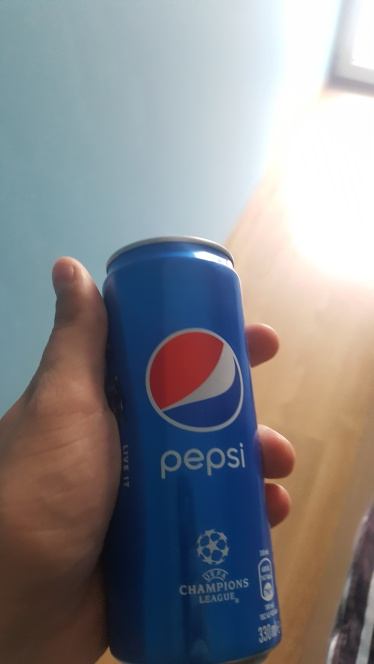pepsi: (90, 228, 294, 663)
